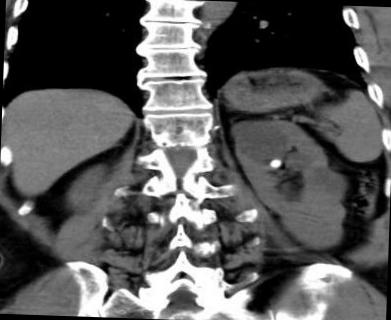Tas_Var: (269, 156, 283, 172)
